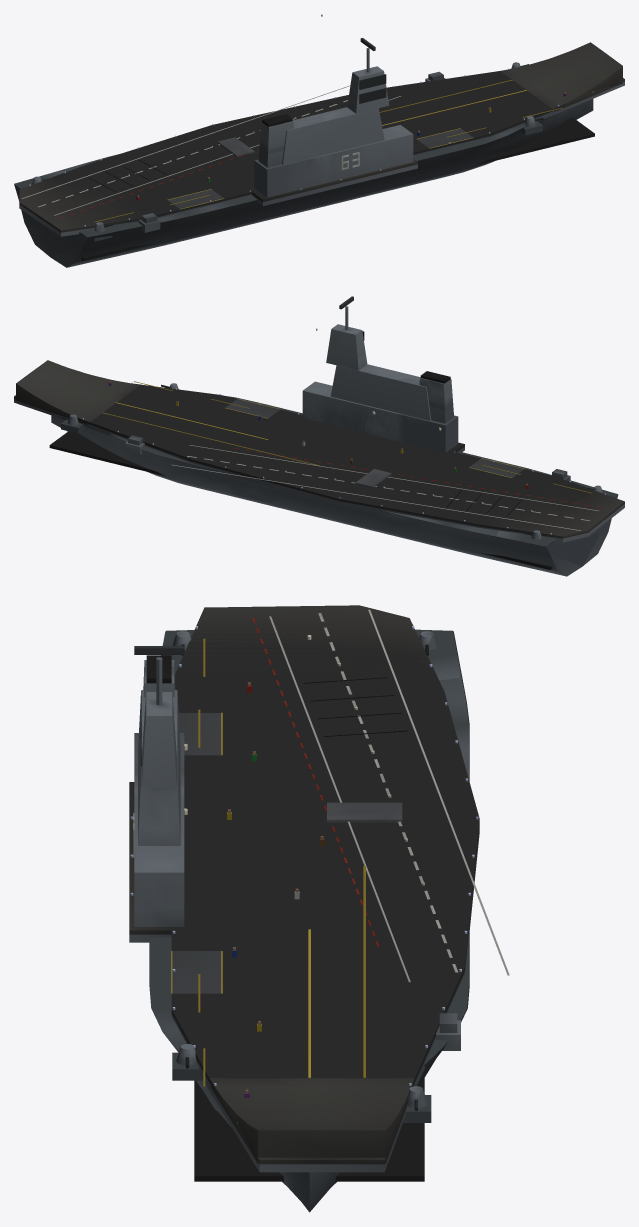
Rendered from naval-cvrussia.glb.
3 views of the same model, one above another, from view 1: azimuth 30°, elevation 25°; view 2: azimuth 150°, elevation 25°; view 3: azimuth 270°, elevation 25° (orthographic). The views are drawn at different scales.
Visible parts, largest first — view 1: cv_russia_body, cv_russia_body_l1; view 2: cv_russia_body, cv_russia_body_l1; view 3: cv_russia_body, cv_russia_body_l1, cv_russia_jbd, cv_russia_jbd_l1.
Part boxes in pixels (bbox=[...]): cv_russia_body: bbox=[14, 14, 624, 267]; cv_russia_body_l1: bbox=[14, 15, 624, 262]; cv_russia_body: bbox=[14, 306, 624, 576]; cv_russia_body_l1: bbox=[14, 327, 624, 571]; cv_russia_body: bbox=[129, 605, 509, 1211]; cv_russia_body_l1: bbox=[129, 605, 479, 1212]; cv_russia_jbd: bbox=[327, 802, 402, 822]; cv_russia_jbd_l1: bbox=[327, 802, 402, 822].
Size of the model in its own units: 5.24 by 1.53 by 1.52.
